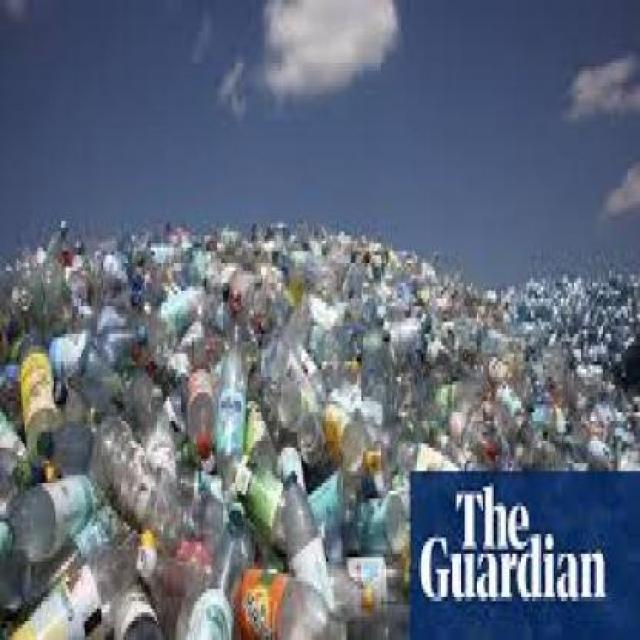garbage: (0, 251, 400, 624), (411, 286, 634, 454)
